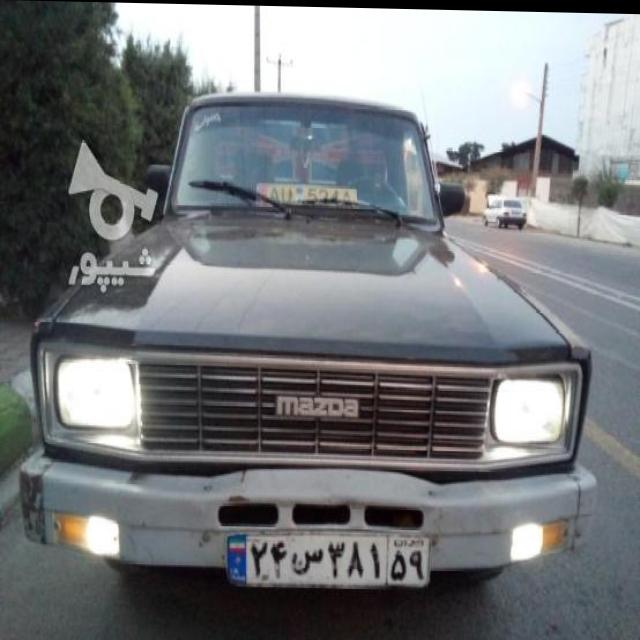licence: (224, 529, 426, 585)
